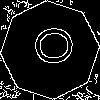O: (25, 25, 74, 67)
